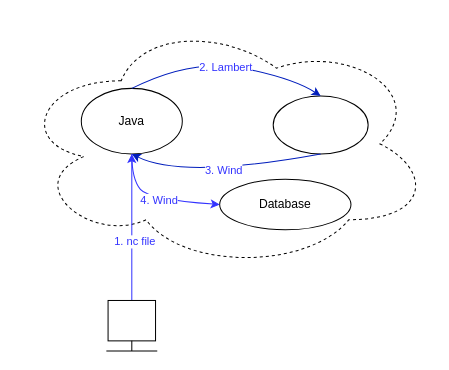
Some shapes in this 449 by 370 pixel diagram are drawn without their labels. Each missing label, with the centre of its shape:
"Client" belongs at pixel 131 320.
"Python" belongs at pixel 320 124.
